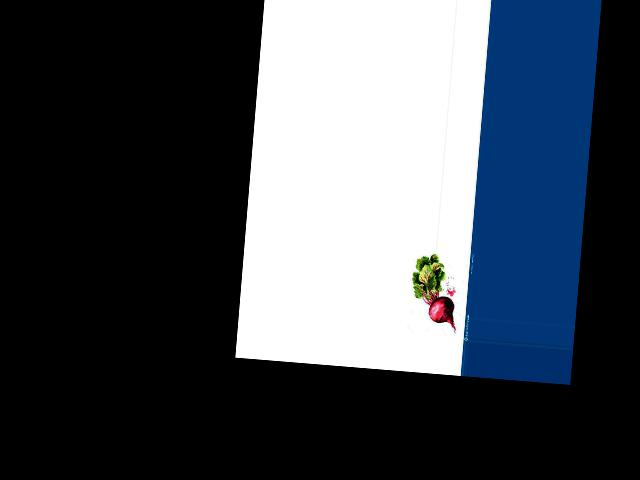beet: (408, 251, 462, 332)
